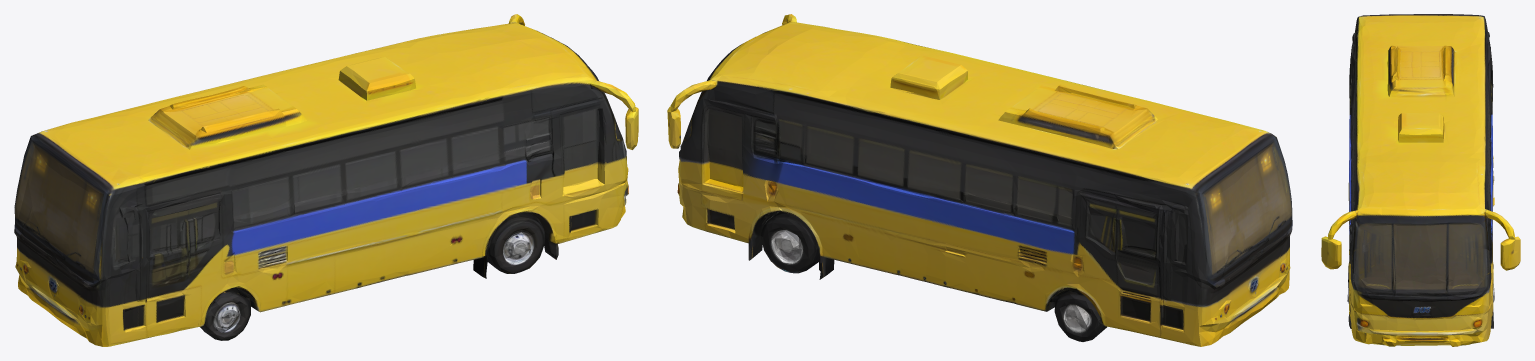
File: Yellow_School_Bus_0622104942_texture.fbx
3 renders of one model, left to right at view 1: azimuth 30°, elevation 25°; view 2: azimuth 150°, elevation 25°; view 3: azimuth 270°, elevation 25°, orthographic. The views are drawn at different scales.
Parts seen in each view (by area): view 1: temp; view 2: temp; view 3: temp.
Part boxes in pixels (x1=…): temp: x1=14, y1=14, x2=638, y2=346; temp: x1=667, y1=14, x2=1292, y2=346; temp: x1=1321, y1=14, x2=1520, y2=346.
Size of the model in its own units: 200 by 68.38 by 77.52.
Materials: 1 (1 with a texture image).
